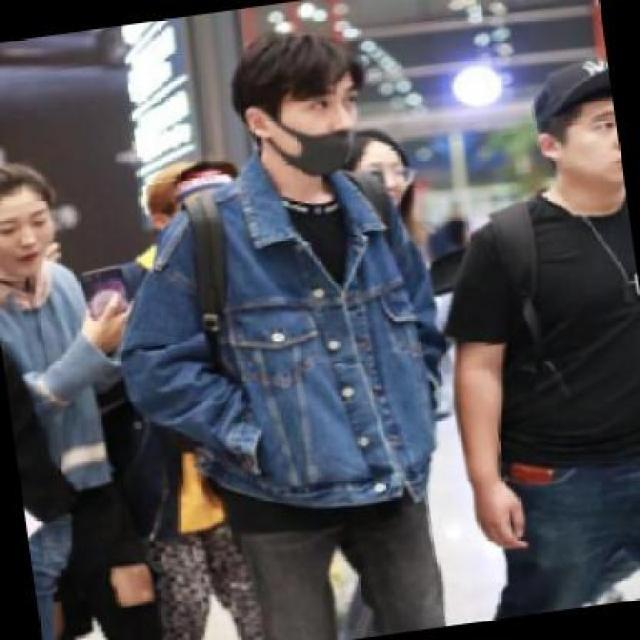hairnet: (269, 79, 374, 181)
